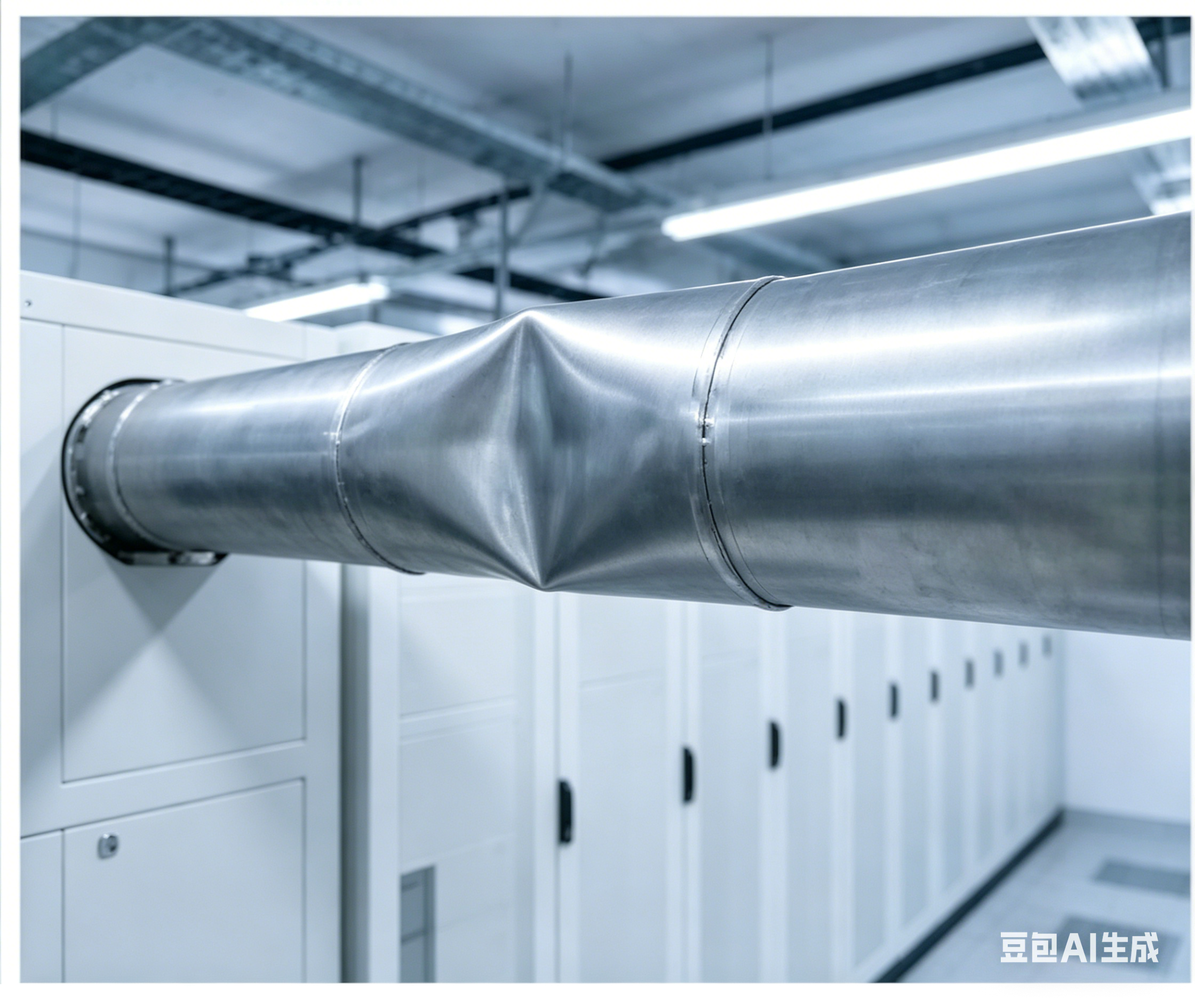Leakage: (393, 307, 686, 602)
